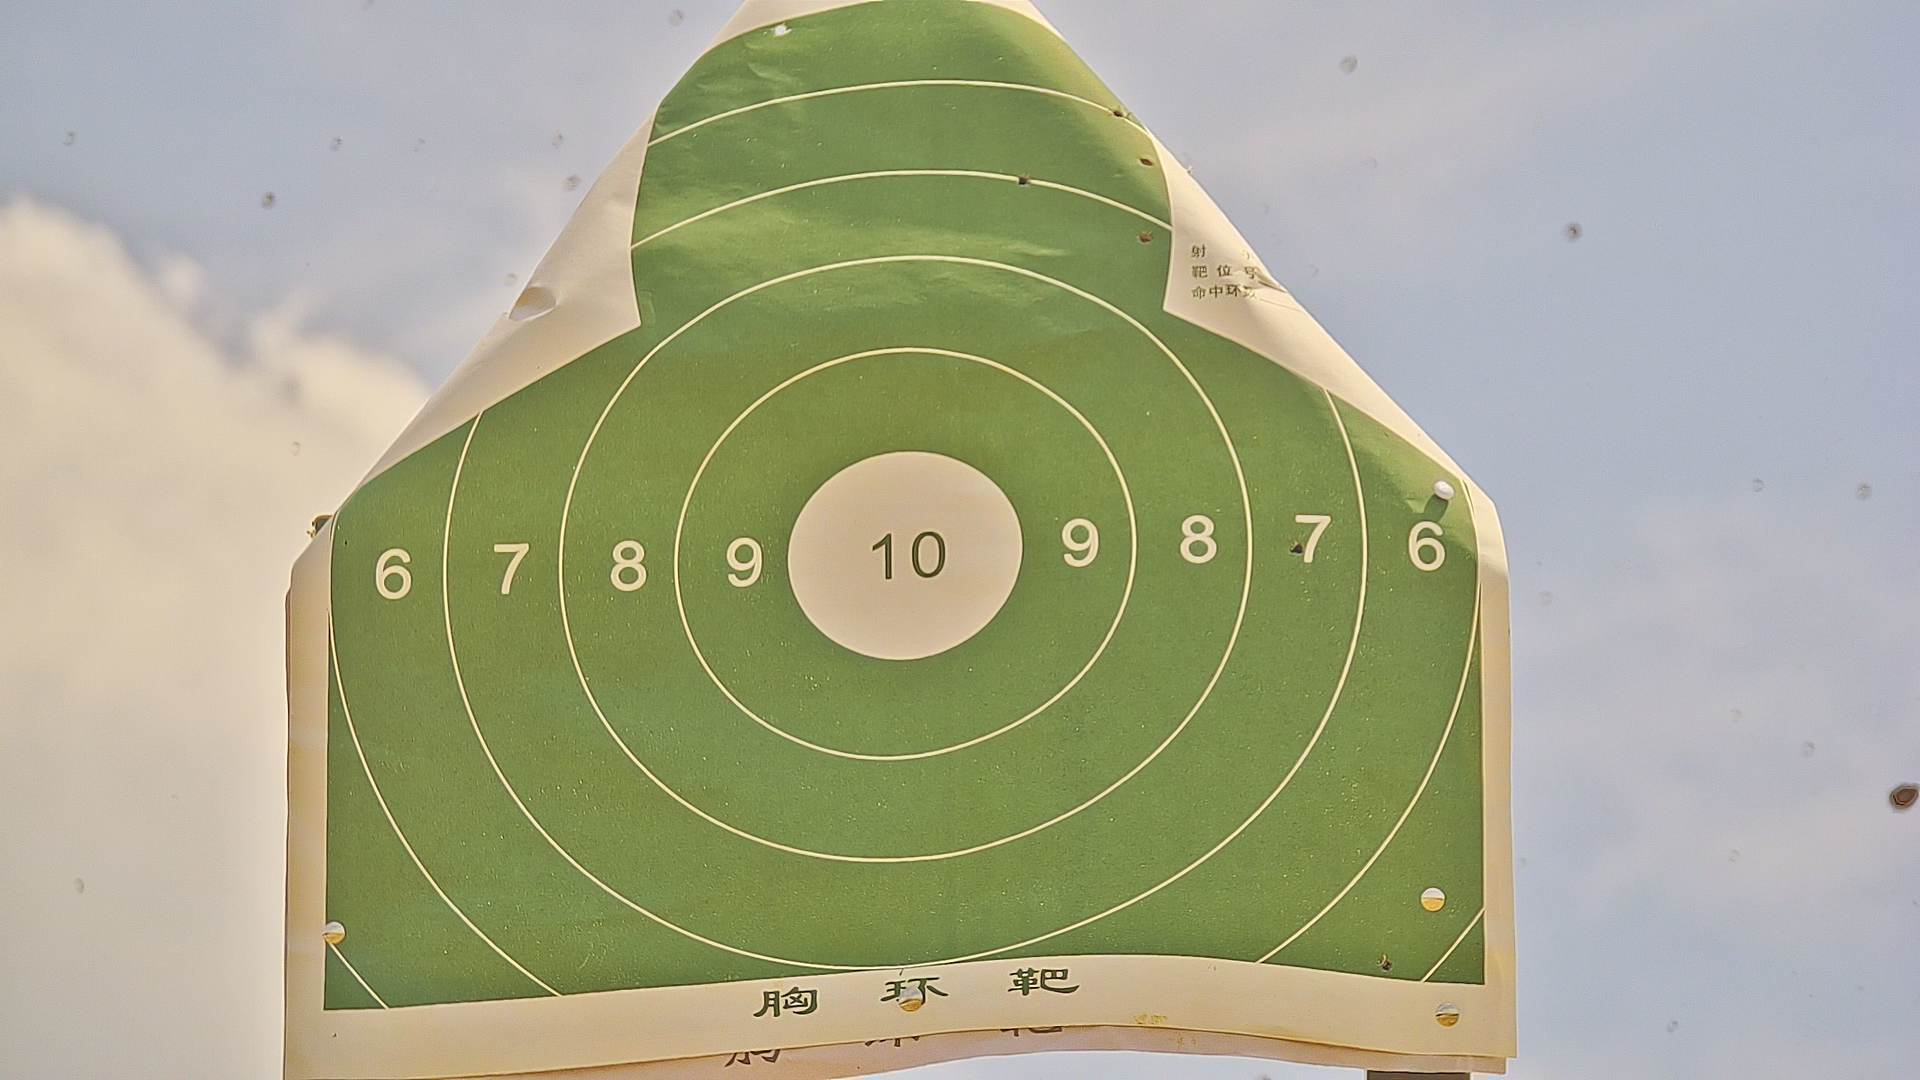hole: (1288, 537, 1309, 559), (1375, 948, 1393, 973), (1138, 225, 1154, 251), (1135, 152, 1158, 169), (1013, 171, 1031, 191), (1108, 105, 1130, 119), (770, 22, 793, 36)
kernel: (899, 556, 902, 564)
target: (323, 3, 1482, 1011)
ten: (779, 447, 1033, 665)
